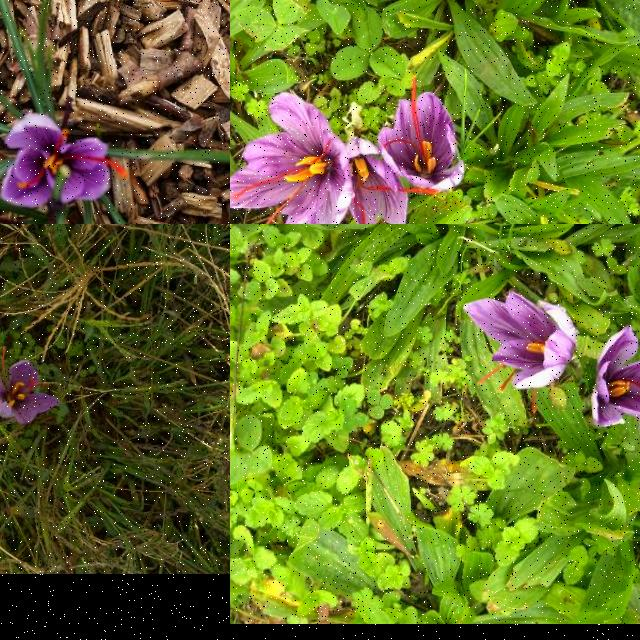flower: (230, 92, 354, 224), (464, 287, 578, 413), (2, 119, 128, 208), (376, 78, 466, 190), (346, 137, 408, 224), (591, 325, 640, 429), (0, 345, 60, 425)
